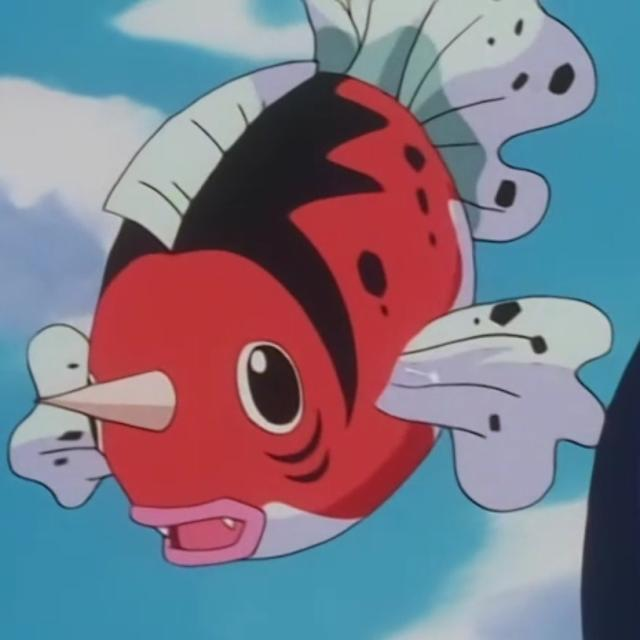Seaking: (23, 14, 560, 564)
